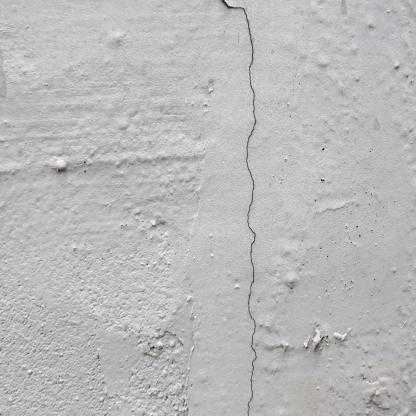crack: (220, 2, 260, 410)
